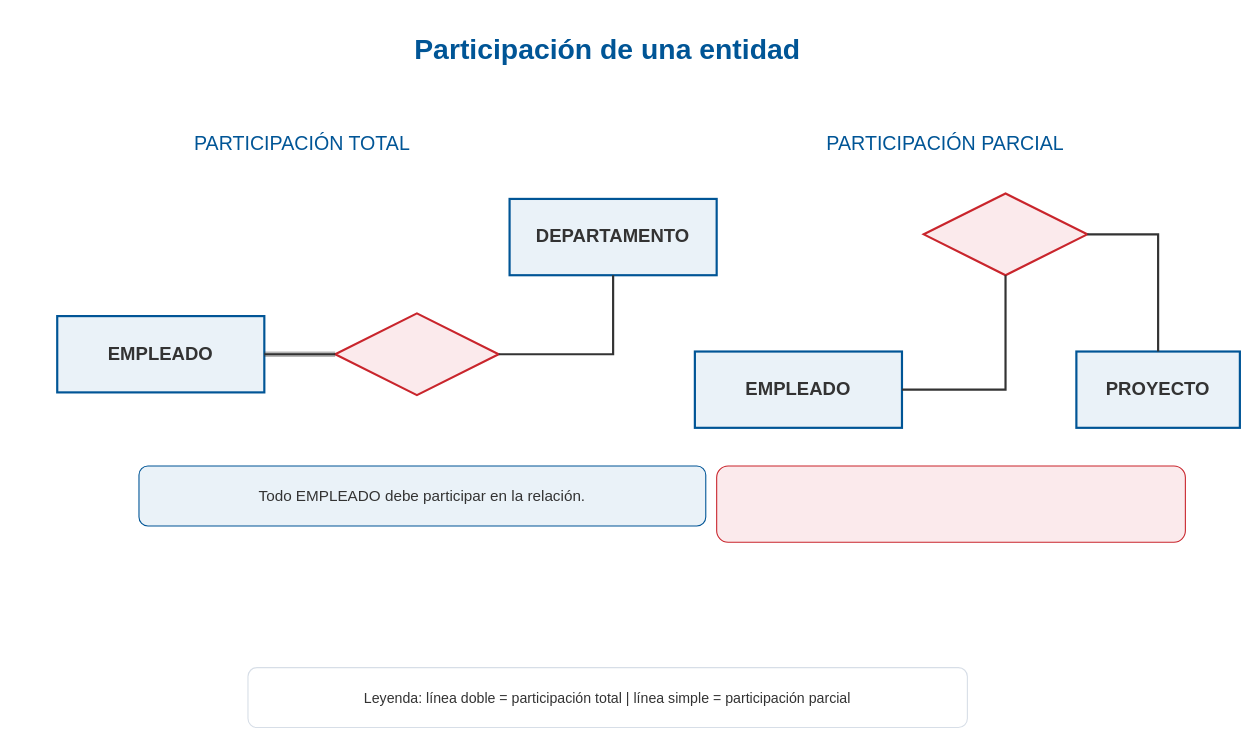
This 1259x747 diagram has some shape labels left out. Here are the shapes that lost their labels. From the top down, the centre of each, then its label:
At pixel 1005 234: "DIRIGE".
At pixel 416 354: "PERTENECE".
At pixel 950 503: "No todo EMPLEADO necesariamente participa en la relación.".
